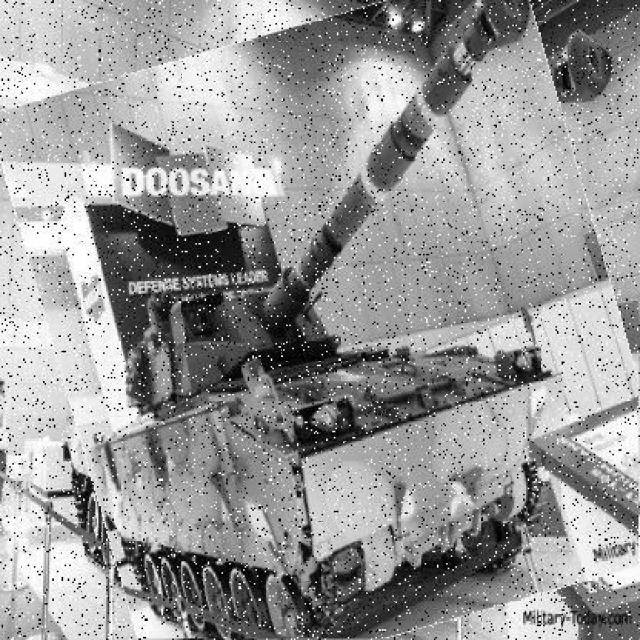Tank: (25, 1, 639, 639)
